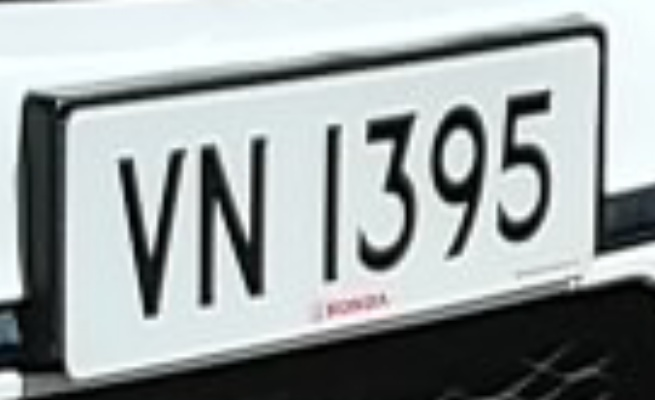1: (302, 106, 360, 299)
3: (347, 98, 429, 283)
5: (488, 79, 561, 255)
9: (418, 88, 497, 268)
N: (193, 126, 279, 323)
V: (110, 137, 192, 328)
